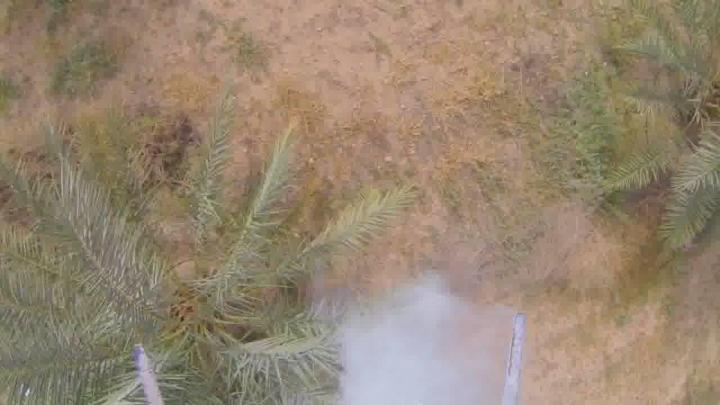Date-Palm-Crown: (40, 186, 320, 404), (652, 30, 720, 196)
